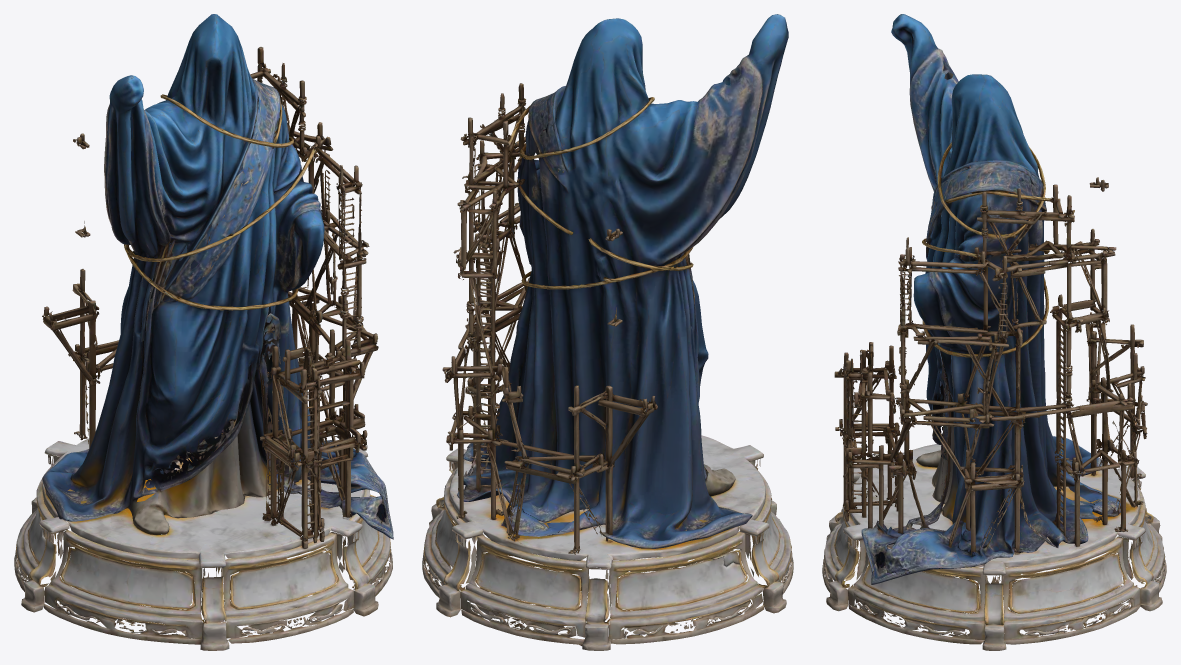
The model's file is colossus.glb.
3 renders of one model, left to right at view 1: azimuth 30°, elevation 25°; view 2: azimuth 150°, elevation 25°; view 3: azimuth 270°, elevation 25°, orthographic. The views are drawn at different scales.
Parts seen in each view (by area): view 1: geometry_0; view 2: geometry_0; view 3: geometry_0.
Part boxes in pixels (left/top/right/bottom): geometry_0: left=14, top=14, right=393, bottom=650; geometry_0: left=422, top=14, right=793, bottom=650; geometry_0: left=822, top=14, right=1166, bottom=650.
Bounding box in the file's own units: 0.6674 × 0.9921 × 0.6154.
Materials: 1 (1 with a texture image).
